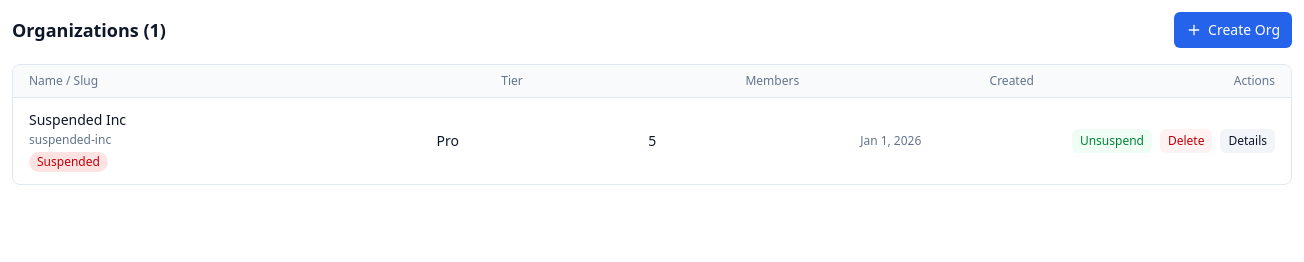
Test case: OrgManager › shows error when unsuspend fails
What coordinates should you click on to do the following:
click the button with test id "unsuspend-btn-org_2"
I would click on:
 (1112, 141)
Its box is [1072, 129, 1152, 153].
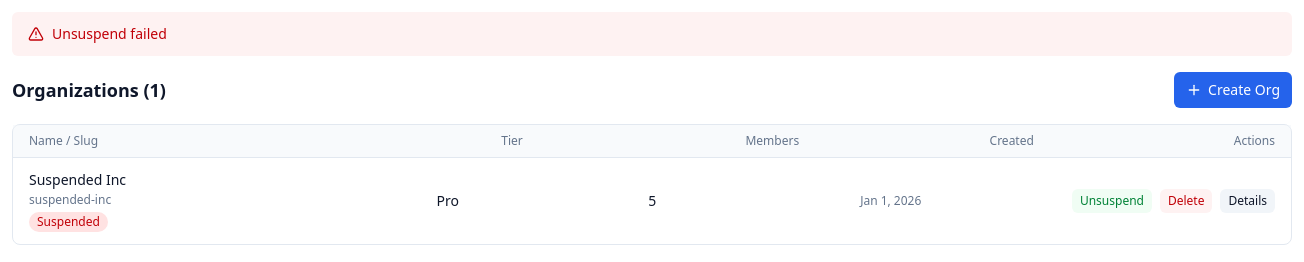
Expected: the element with test id "org-manager-error" reads "Unsuspend failed", [52, 24, 167, 43]
